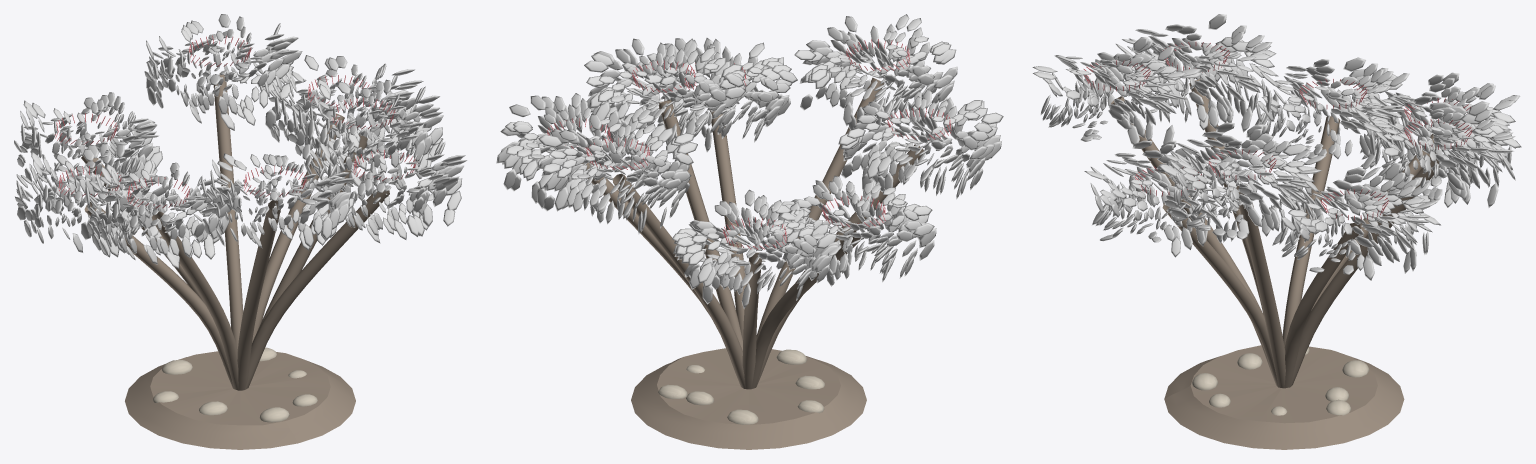
Rendered from kowhai-hero-nat-02.glb.
3 renders of one model, left to right at view 1: azimuth 30°, elevation 25°; view 2: azimuth 150°, elevation 25°; view 3: azimuth 270°, elevation 25°, orthographic. The views are drawn at different scales.
Visible parts, largest first — view 1: Pohutukawa_InstancedLeaves, SubPart (×8), Pohutukawa_InstancedCrimsonFlowers; view 2: Pohutukawa_InstancedLeaves, SubPart (×9), Pohutukawa_InstancedCrimsonFlowers; view 3: Pohutukawa_InstancedLeaves, SubPart (×9), Pohutukawa_InstancedCrimsonFlowers.
Boxes of the visible parts, x1,y1,x2,y2 form: Pohutukawa_InstancedLeaves: (14,14,467,268); SubPart (×8): (84,74,389,449); Pohutukawa_InstancedCrimsonFlowers: (54,35,416,208); Pohutukawa_InstancedLeaves: (496,14,1003,308); SubPart (×9): (582,77,923,449); Pohutukawa_InstancedCrimsonFlowers: (547,39,951,249); Pohutukawa_InstancedLeaves: (1032,14,1521,280); SubPart (×9): (1111,79,1439,449); Pohutukawa_InstancedCrimsonFlowers: (1083,42,1472,220).
Size of the model in its own units: 2.14 by 1.56 by 2.2.
4 materials, 1 textured.
